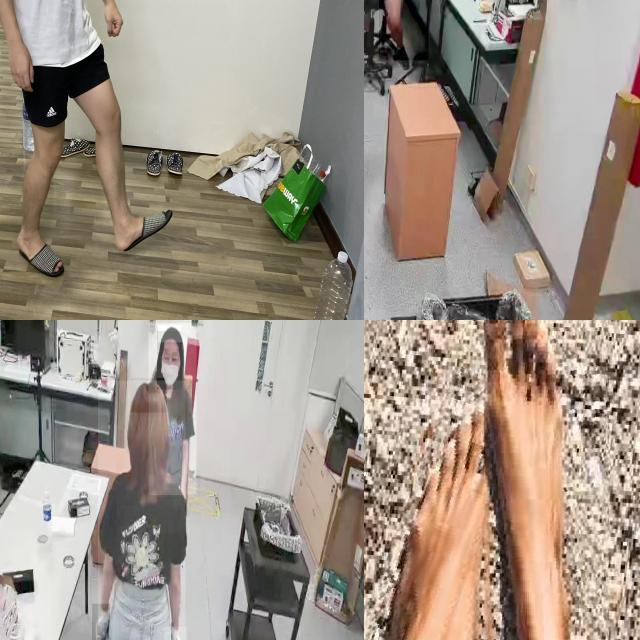Barefoots: (458, 320, 634, 640), (364, 362, 514, 640)
Sandals: (16, 220, 65, 278), (115, 209, 173, 252)
face_mask: (157, 331, 182, 389)
hand_glove: (92, 603, 111, 640), (164, 626, 187, 640)
head_nohelmet: (130, 378, 168, 413), (158, 325, 182, 343)
person: (98, 380, 186, 640), (149, 323, 197, 495), (379, 0, 429, 61)
